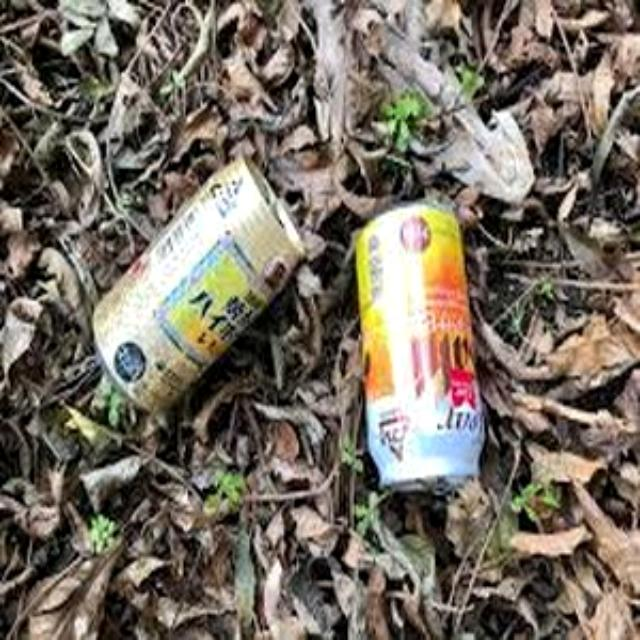Metal: (90, 154, 304, 412), (353, 199, 491, 493)
